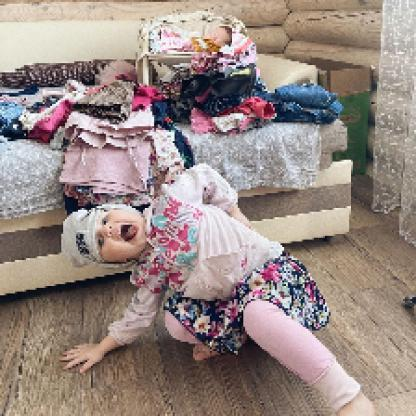child: (57, 163, 377, 416), (162, 26, 234, 54)
